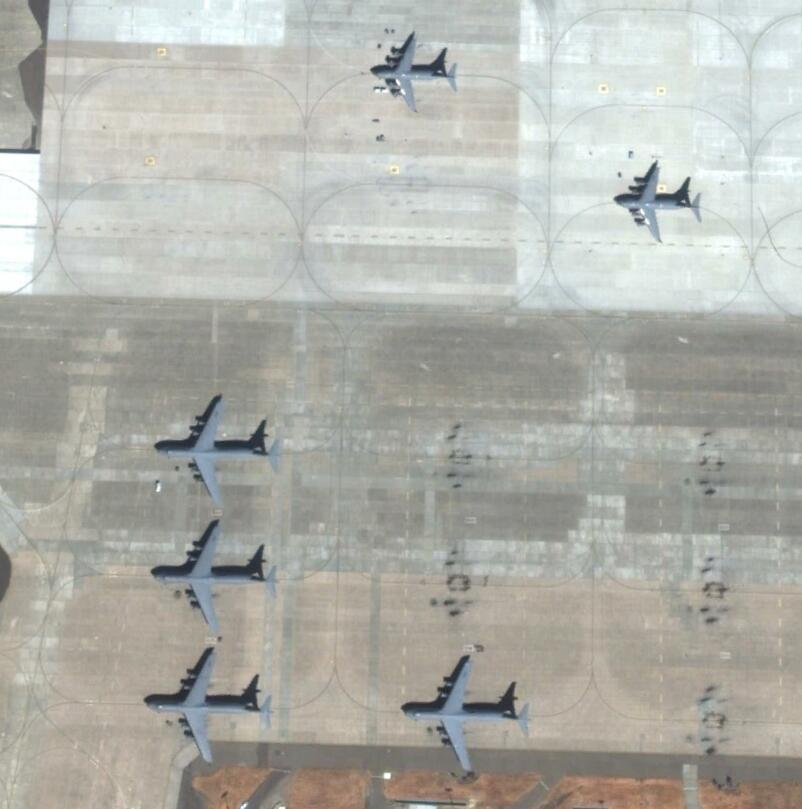A3: (614, 165, 702, 248), (374, 33, 458, 113)
A4: (146, 649, 274, 767), (152, 522, 282, 634), (403, 659, 531, 772), (154, 400, 286, 505)
